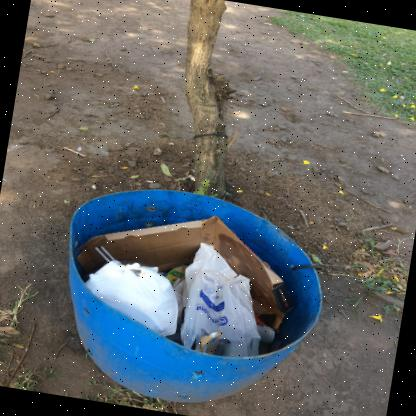Cigarette: (146, 180, 153, 183)
Drink carton: (163, 264, 187, 286)
Paper cup: (256, 323, 274, 342)
Pizza box: (75, 215, 295, 329)
Plastic film: (198, 331, 224, 354)
Plastic straw: (94, 247, 110, 262), (100, 246, 115, 260)
Single-use carrier bag: (172, 242, 261, 357), (84, 260, 178, 336)
